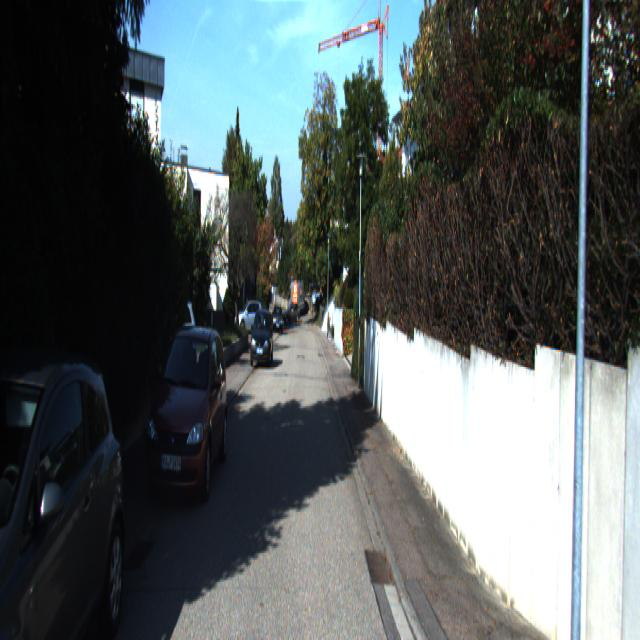Car: (0, 348, 127, 638), (142, 317, 228, 508), (250, 309, 275, 369)
DontCare: (277, 277, 304, 329), (235, 302, 263, 329)
